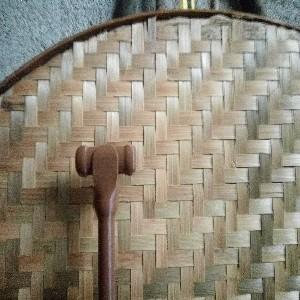palu: (75, 143, 137, 300)
